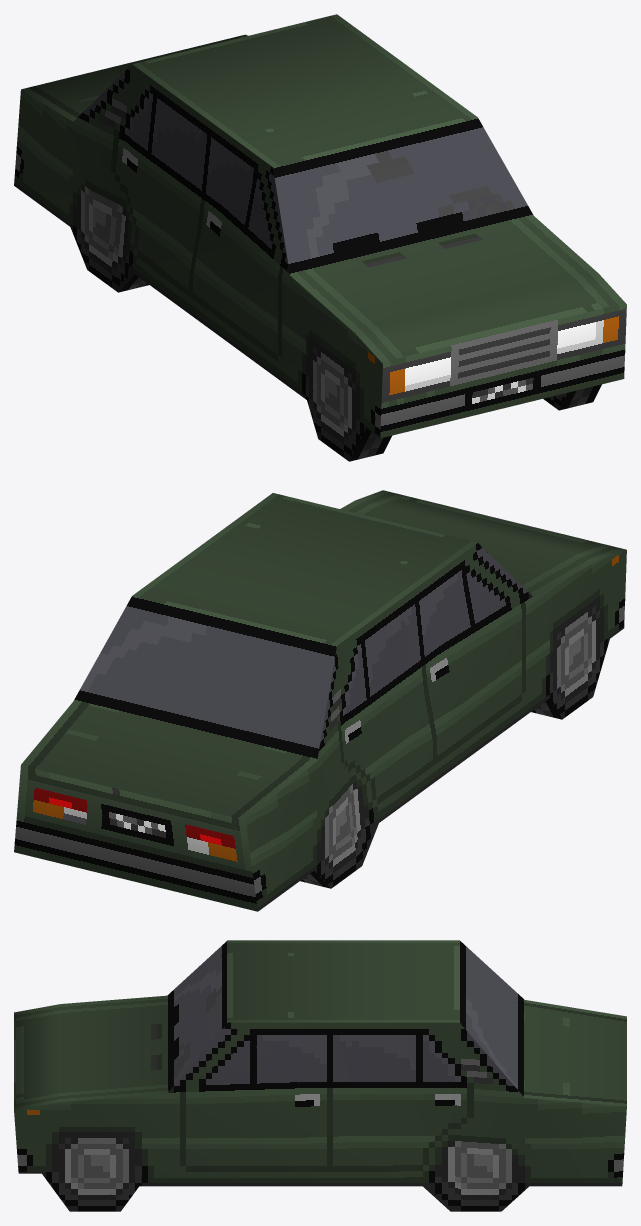
File: sv-vaz2105-green.glb
3 renders of one model, top to bottom at view 1: azimuth 30°, elevation 25°; view 2: azimuth 150°, elevation 25°; view 3: azimuth 270°, elevation 25°, orthographic. The views are drawn at different scales.
Parts seen in each view (by area): view 1: sv-vaz2105-green-mesh; view 2: sv-vaz2105-green-mesh; view 3: sv-vaz2105-green-mesh.
Boxes of the visible parts, x1,y1,x2,y2 form: sv-vaz2105-green-mesh: (14, 14, 626, 461); sv-vaz2105-green-mesh: (14, 490, 626, 911); sv-vaz2105-green-mesh: (14, 940, 626, 1211).
Size of the model in its own units: 50 by 43 by 132.
Materials: 1 (1 with a texture image).
